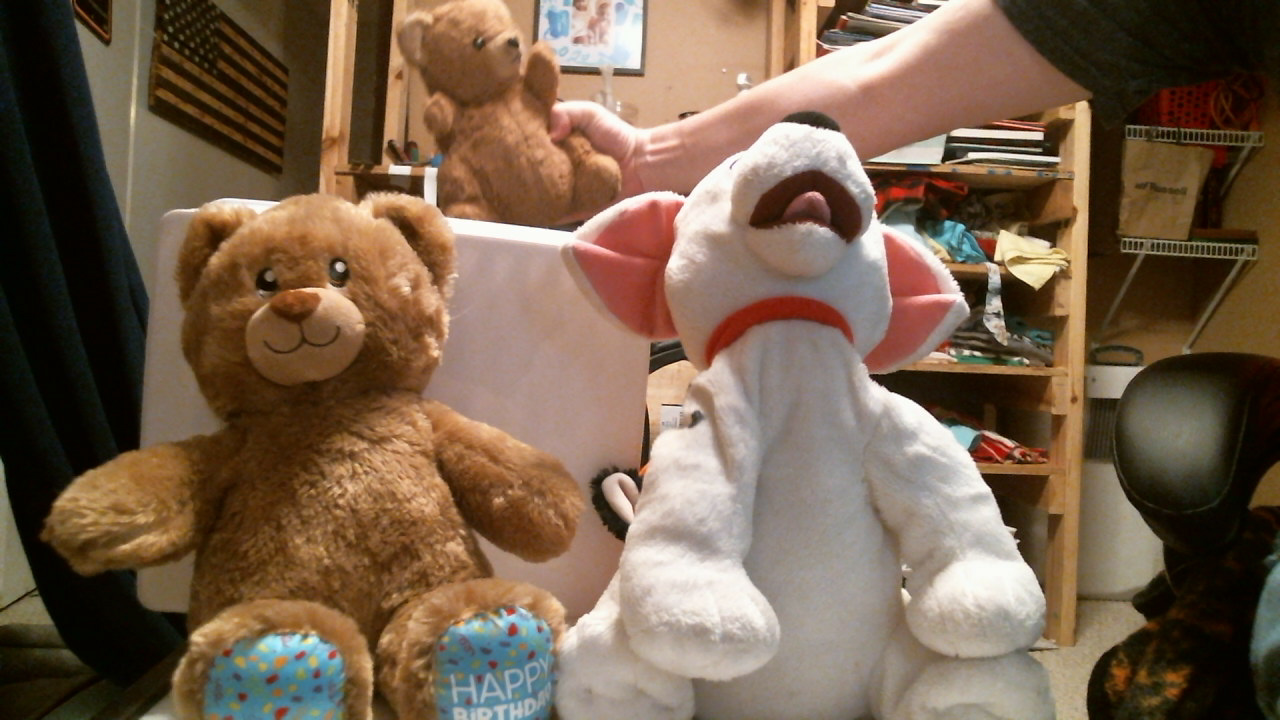Little_Mister_Bear: (459, 31, 528, 104)
